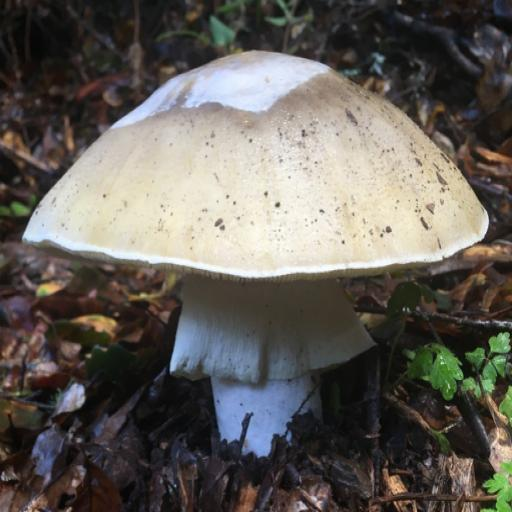mushroom: (8, 0, 511, 476)
